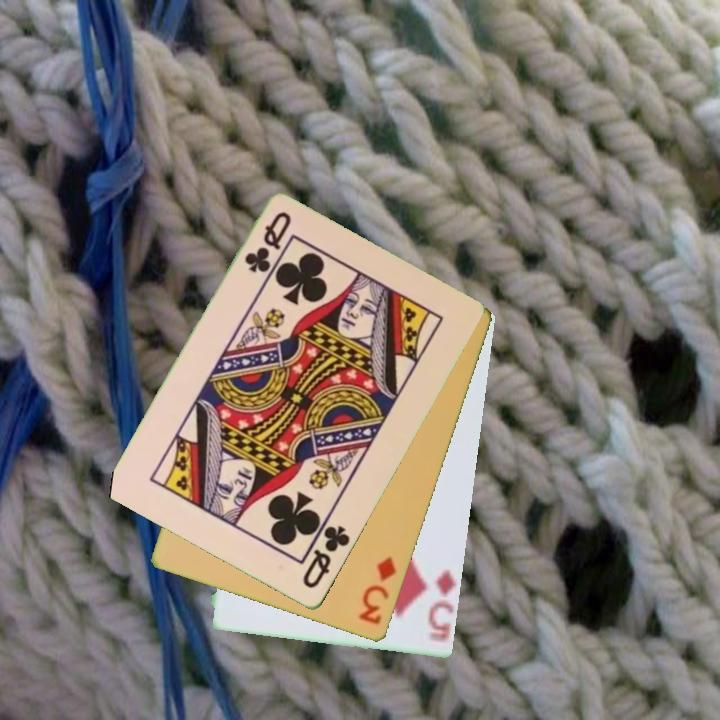3d: (355, 553, 400, 628)
5d: (425, 567, 459, 646)
Qc: (299, 522, 353, 592), (241, 208, 295, 277)
